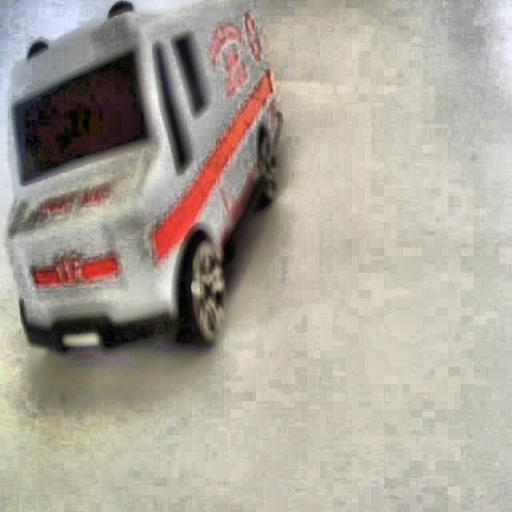ambulance: (4, 0, 282, 353)
